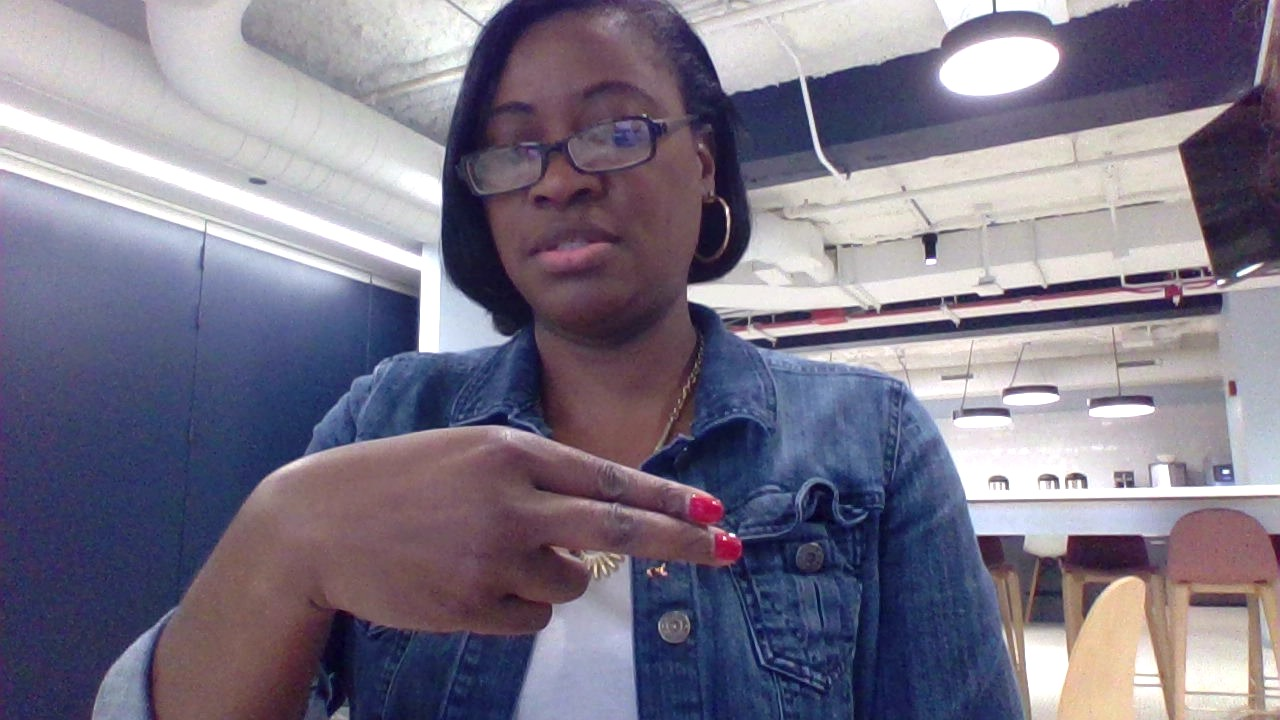h: (203, 409, 759, 657)
